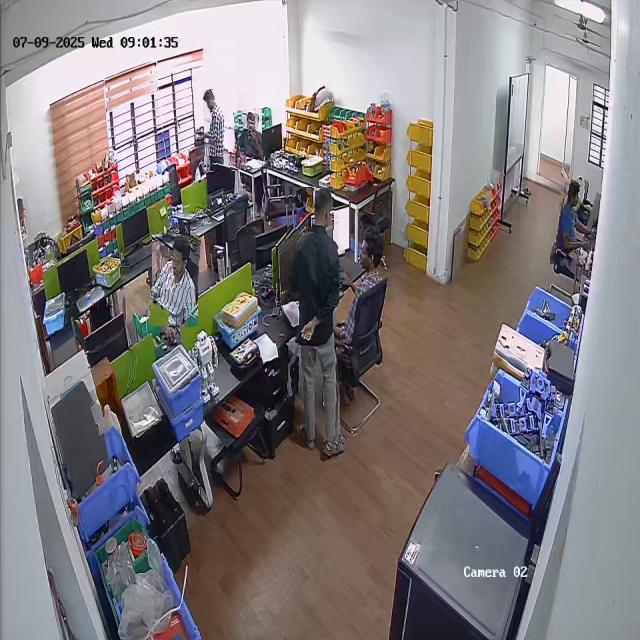person: (278, 187, 345, 462), (345, 224, 394, 336), (150, 234, 200, 327), (553, 179, 599, 269), (203, 89, 240, 172), (236, 109, 264, 169)
